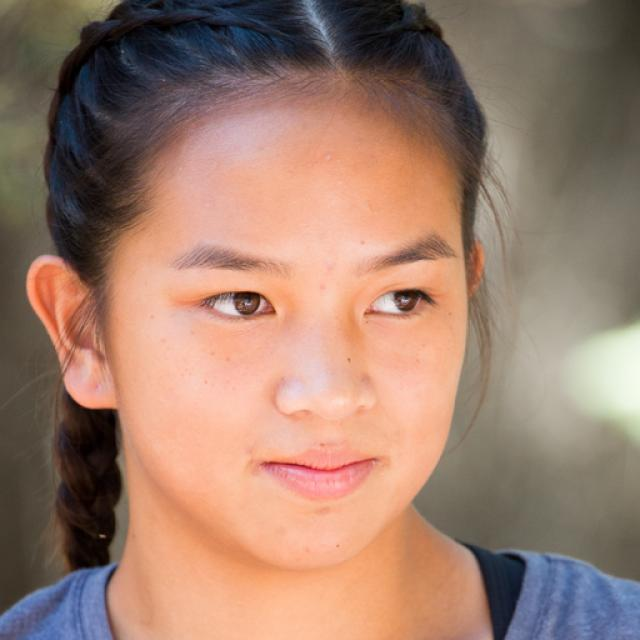neutral: (112, 64, 470, 570)
